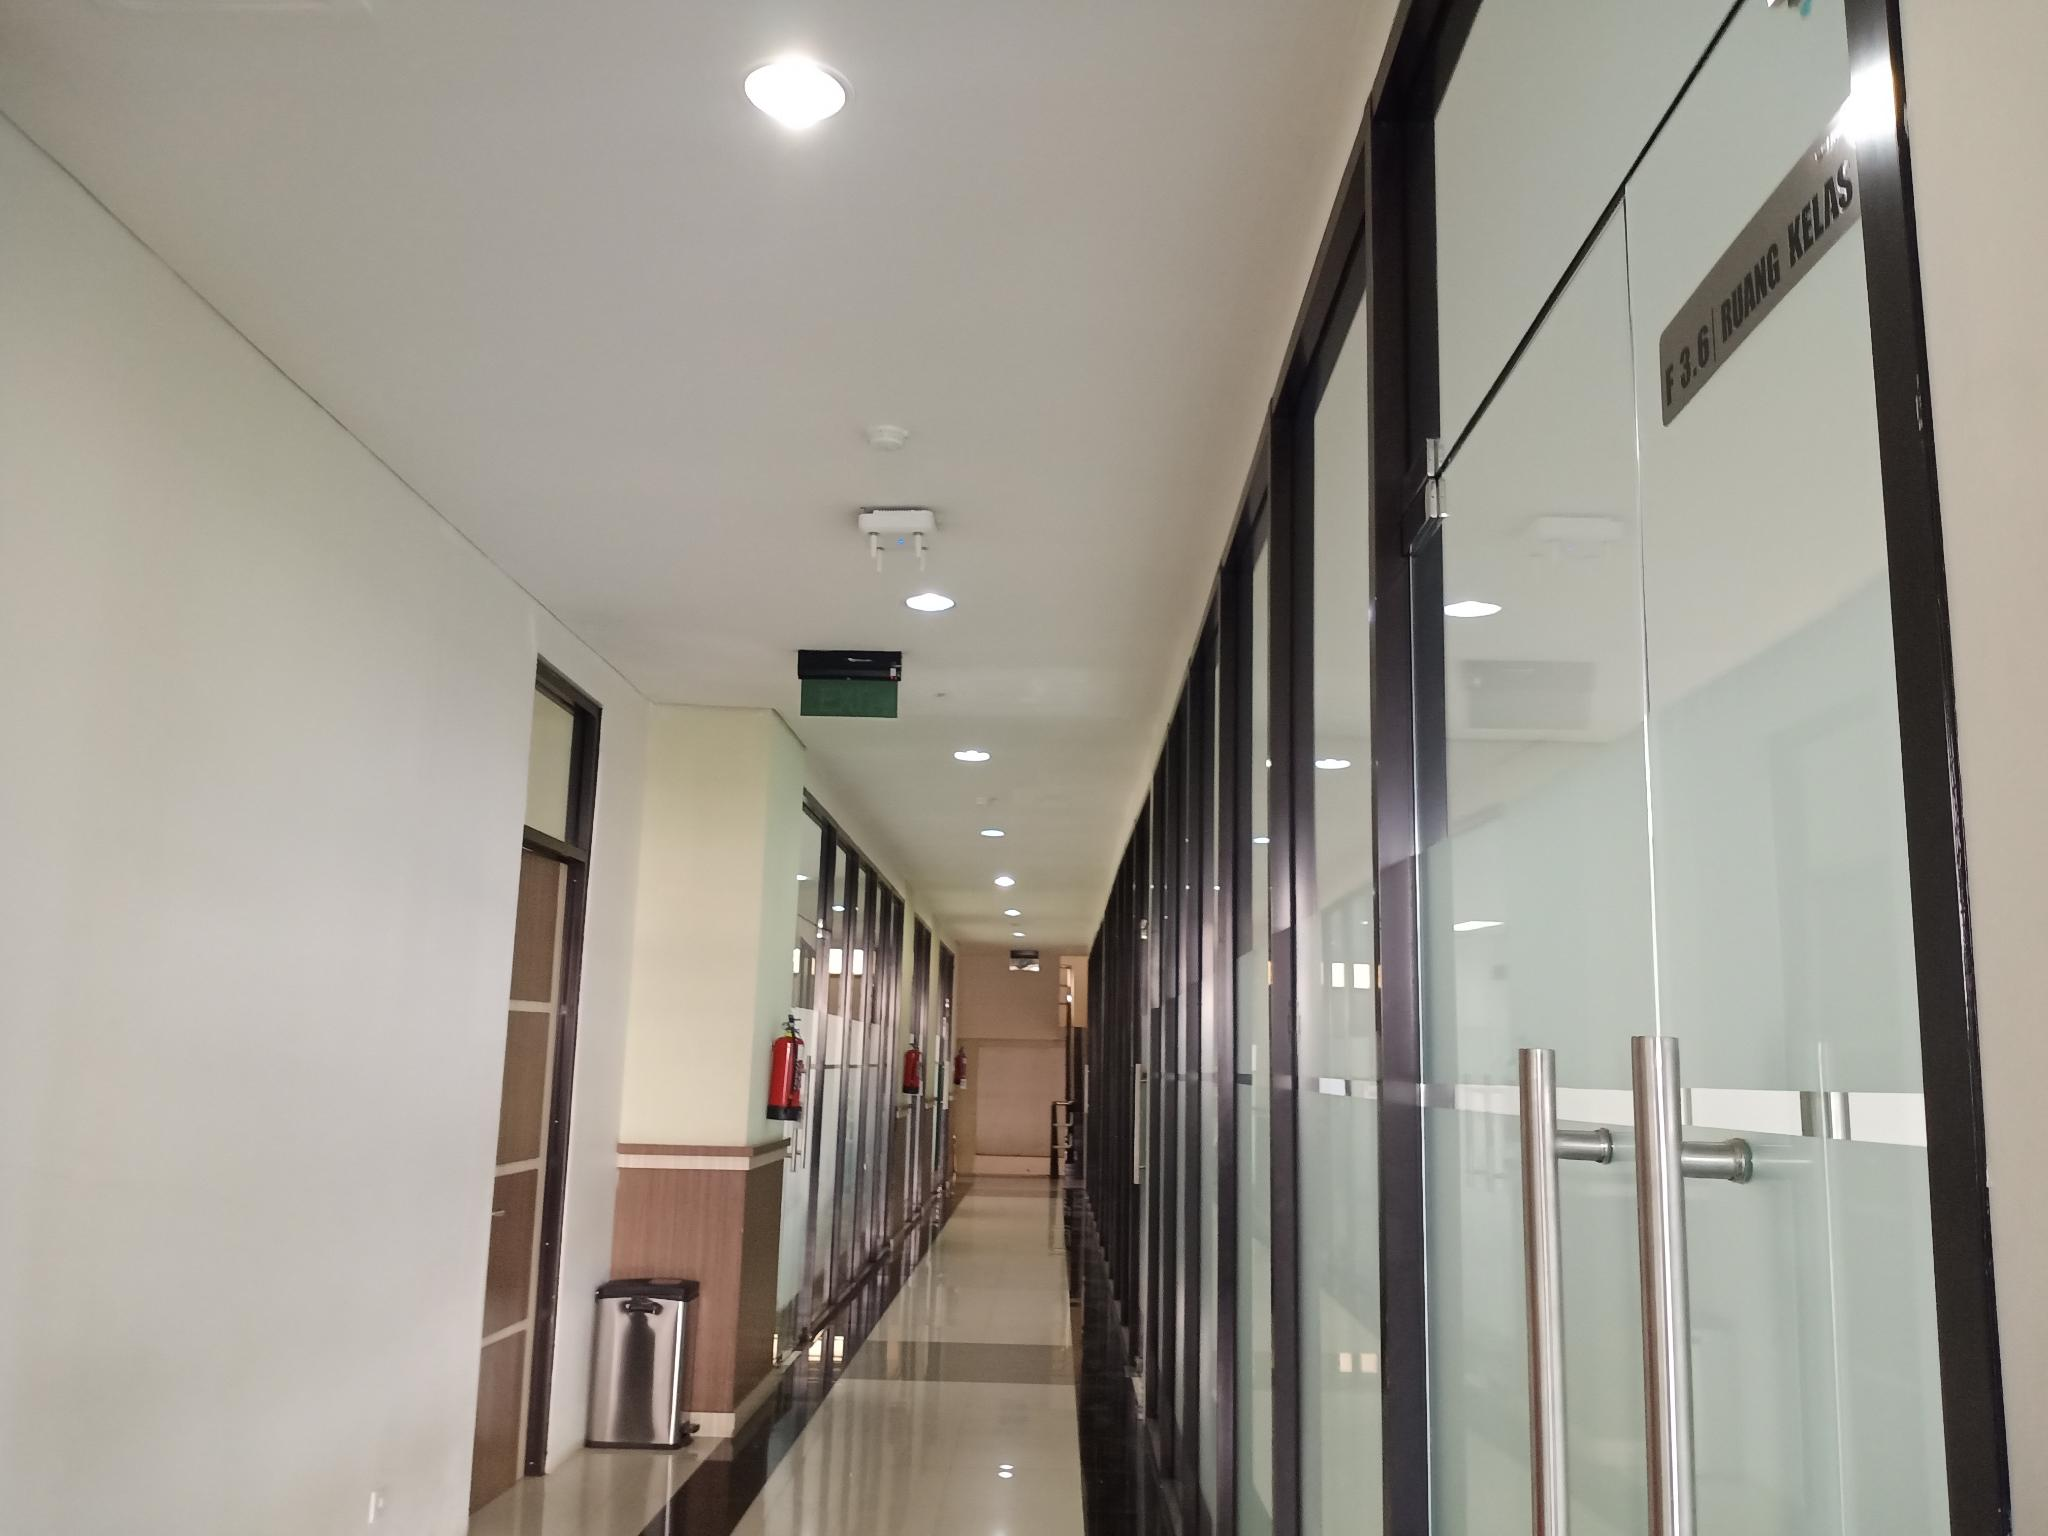plate: (1658, 95, 1859, 428)
